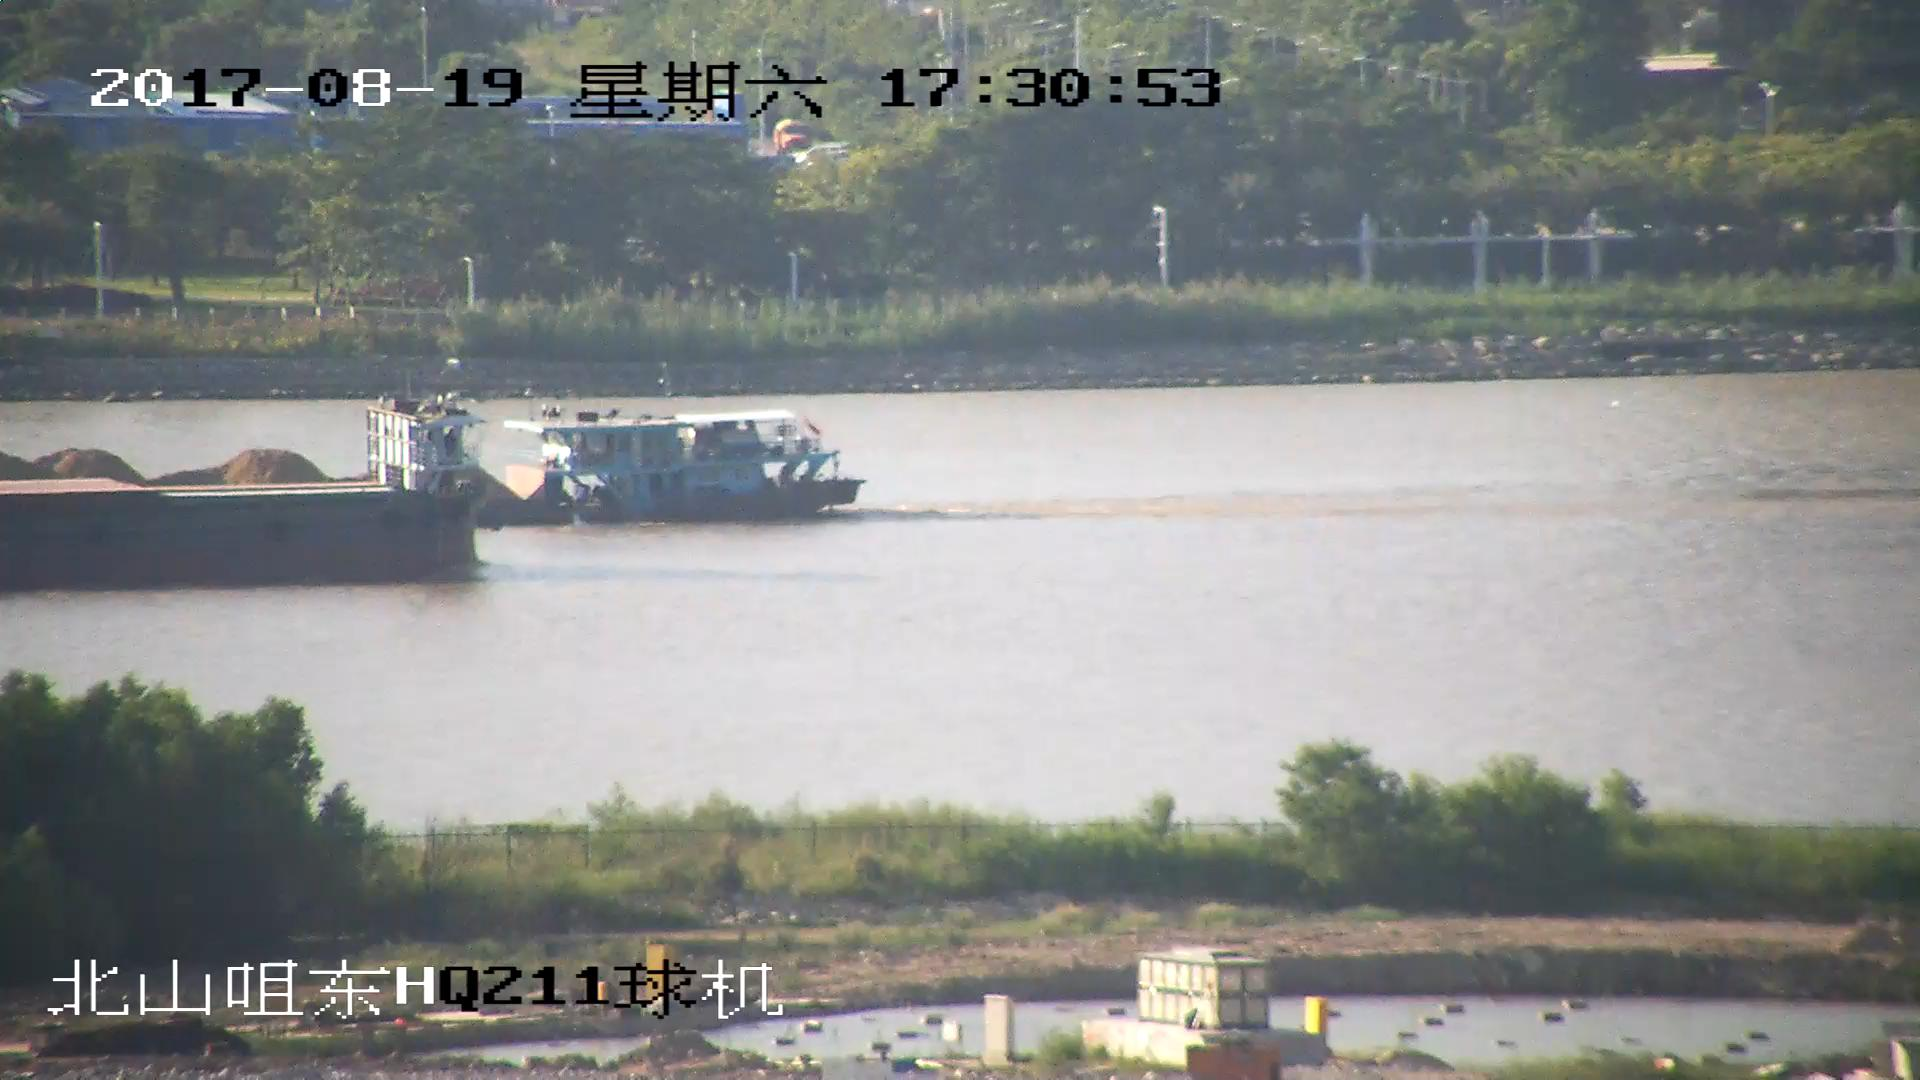general cargo ship: (1, 396, 491, 585)
ore carrier: (1, 407, 868, 523)
